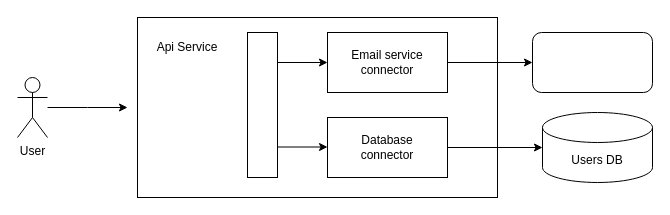
This 670x215 diagram has some shape labels left out. Here are the shapes that lost their labels. From the top down, the box of each, then its label:
(532, 32, 652, 92): Email service
(246, 32, 278, 178): F a s t A p i
